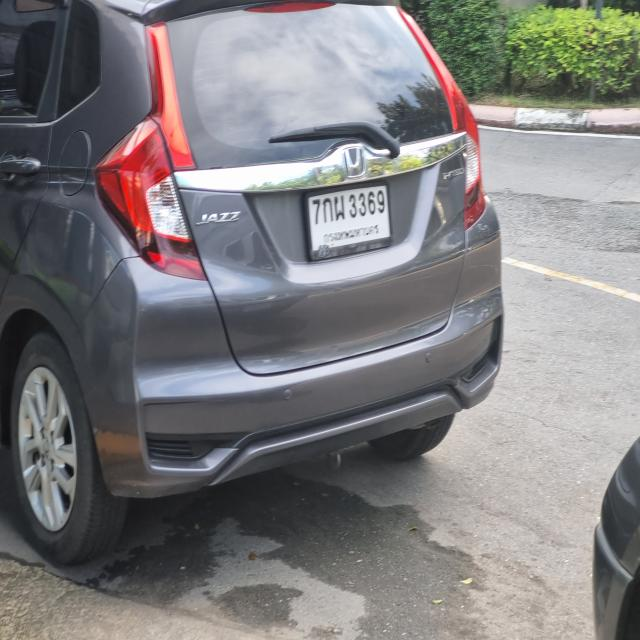license_plate: (302, 179, 395, 267)
